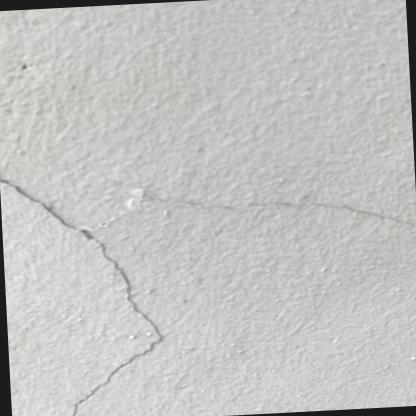crack: (0, 174, 166, 416)
